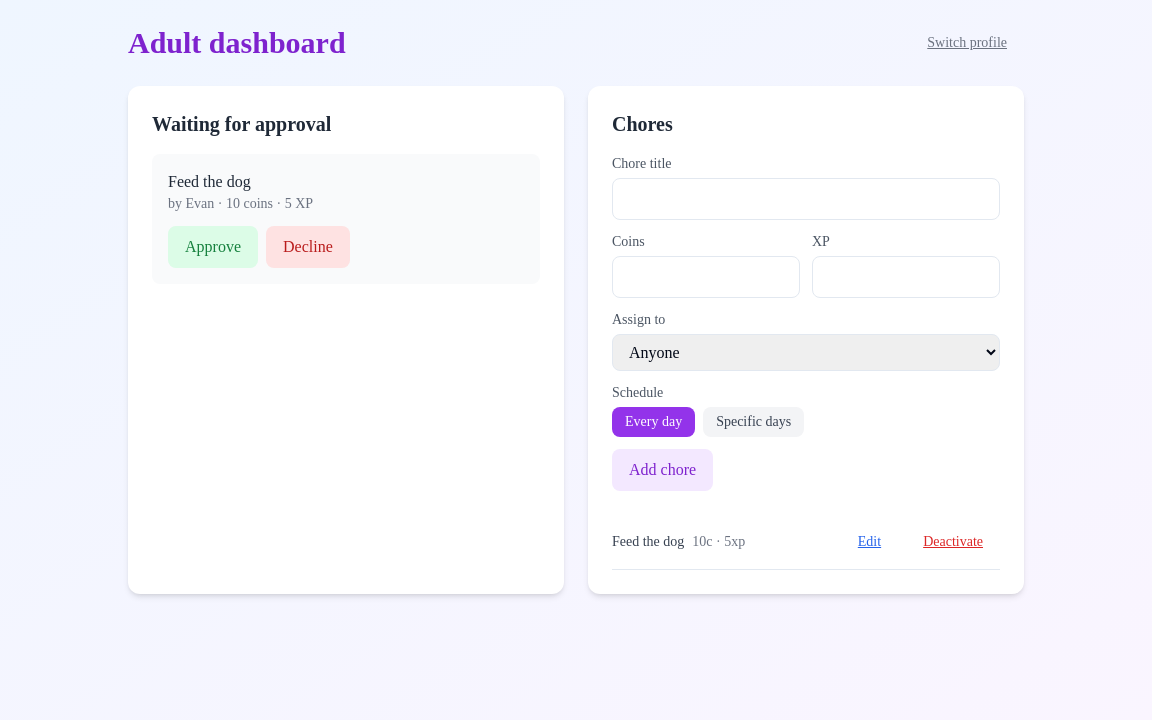
Test: AdultDashboard › adding a new chore template shows it in the template list
The image size is (1152, 720).
Type "Take out bins" into the field labelled "Chore title".
click(806, 199); type("Take out bins")  # box [612,178,1000,220]
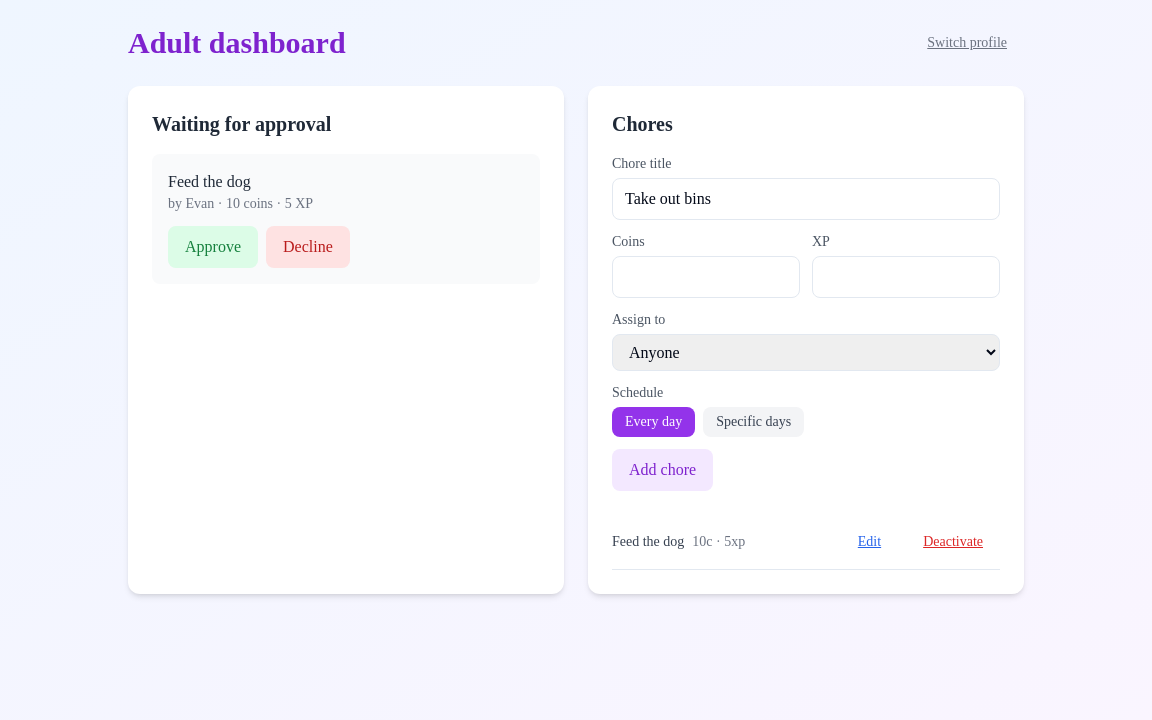
Type "8" into the number field labelled "Coins".
click(706, 277); type("8")  # box [612,256,800,298]
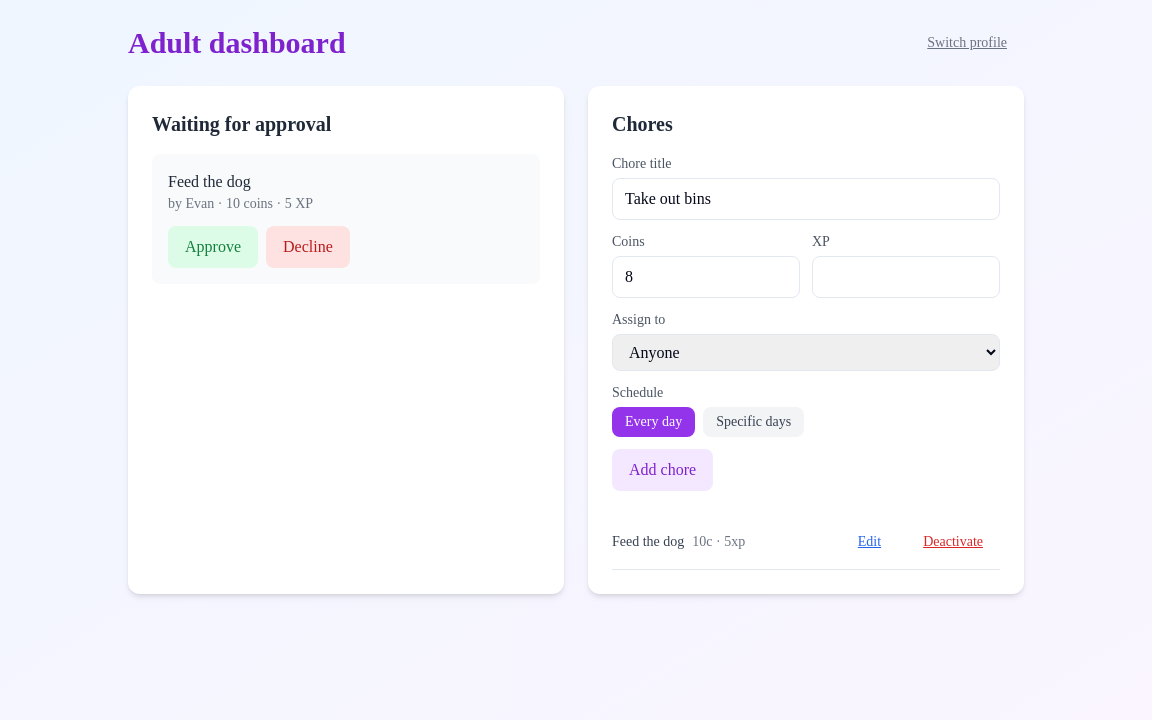
Type "4" into the number field labelled "XP".
click(906, 277); type("4")  # box [812,256,1000,298]
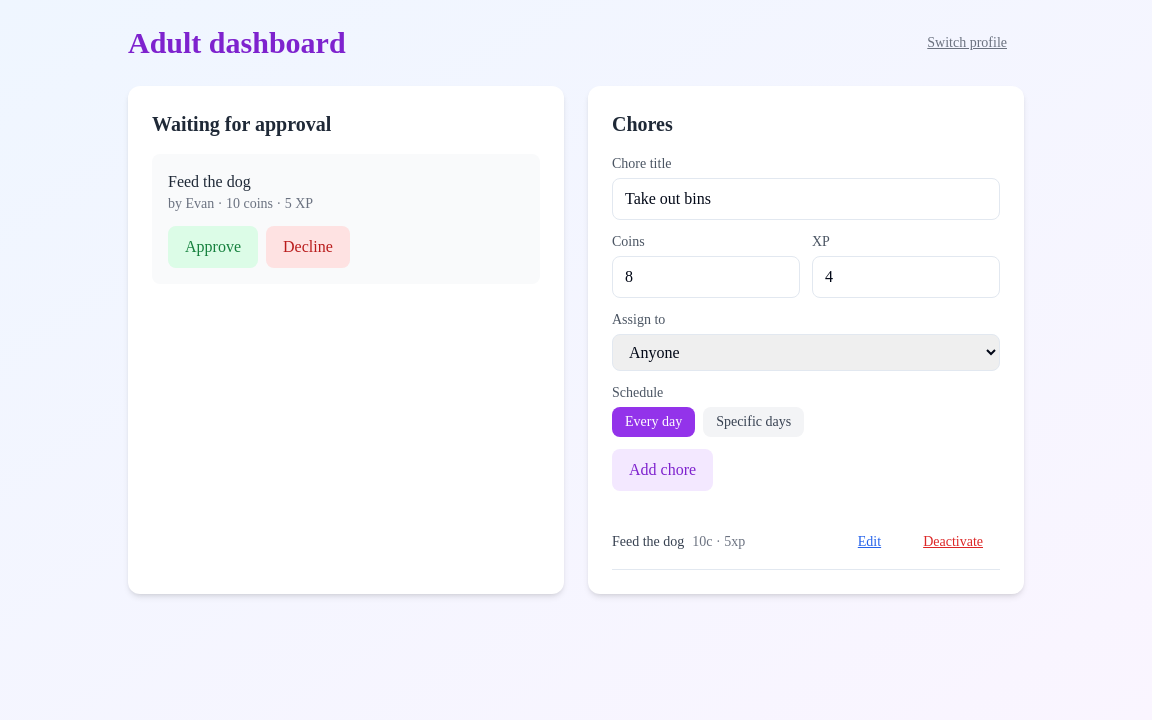
Click the button "Add chore".
click(663, 470)  # box [612,449,713,491]
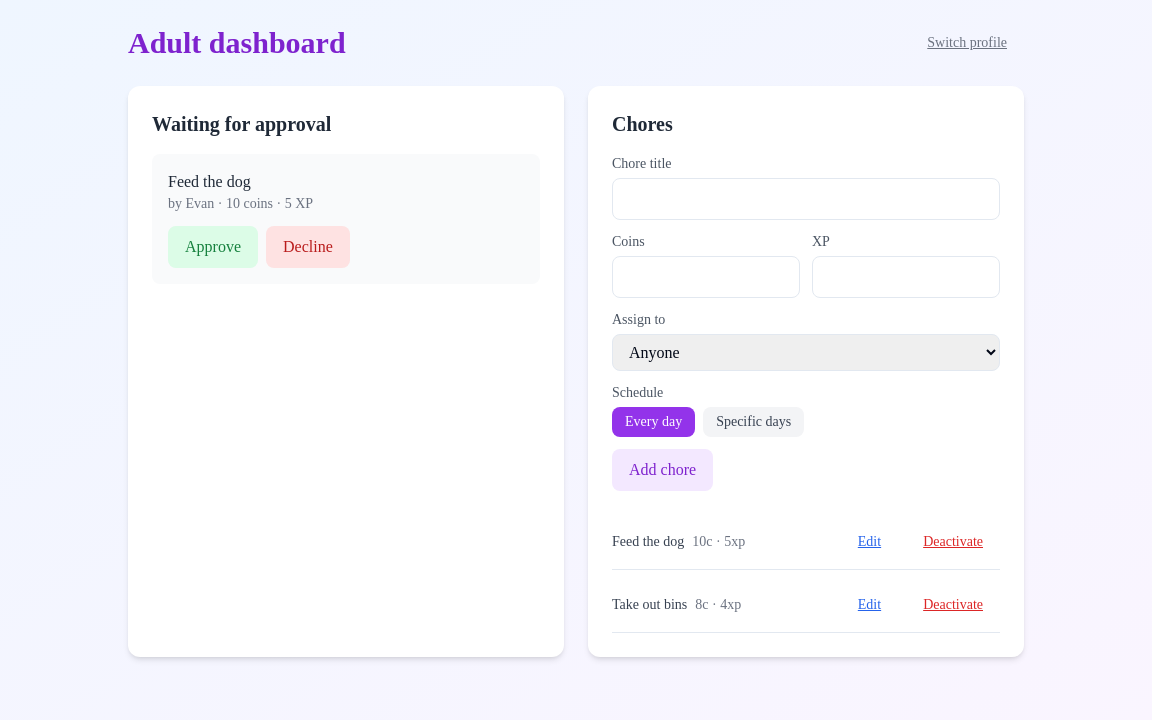
Result: the text "Take out bins" is shown at [612,597,687,612]
